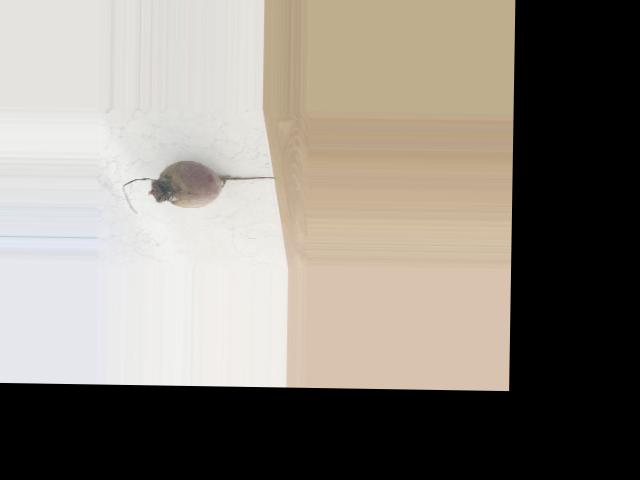beet: (123, 159, 277, 215)
